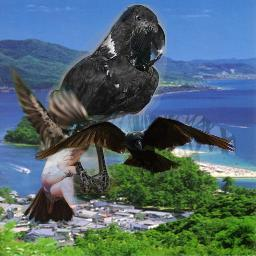Crow: (37, 4, 167, 194), (35, 115, 236, 185), (121, 21, 163, 81)
Swallow: (7, 63, 104, 224)
